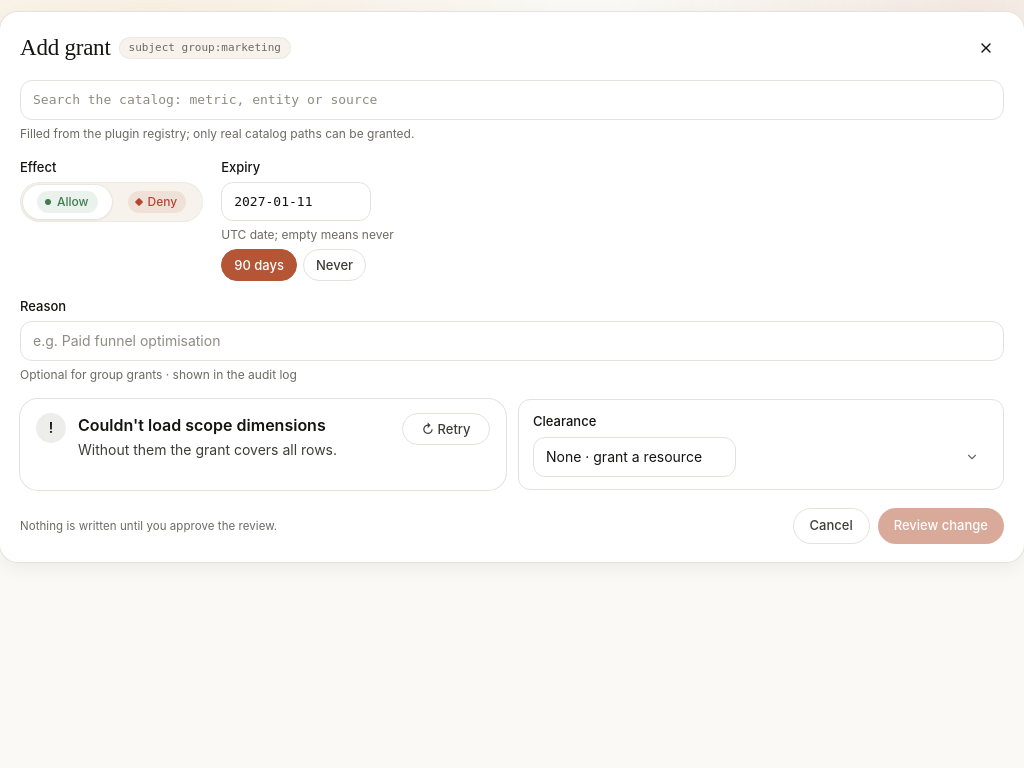
Test: GrantEditor › scope dimensions that fail to load: Retry, and a resource allow cannot be staged
This screenshot has width=1024, height=768.
Click the dropdown named "Target". click: [512, 100]
box: [20,80,1004,120]
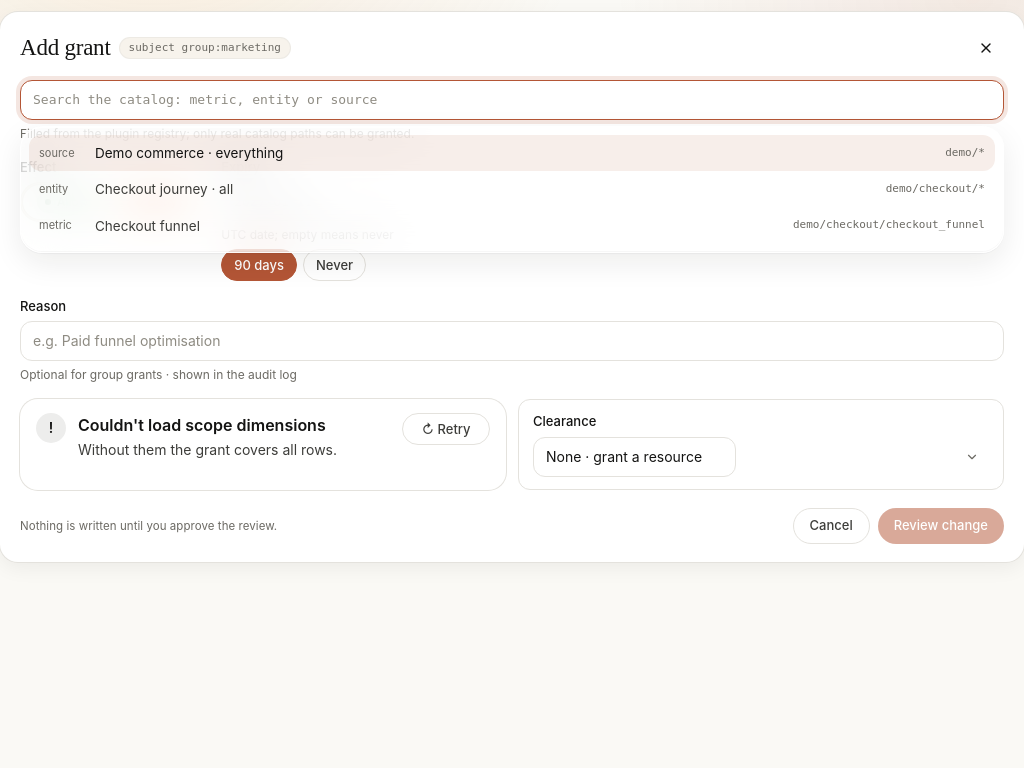
Type keys "checkout"
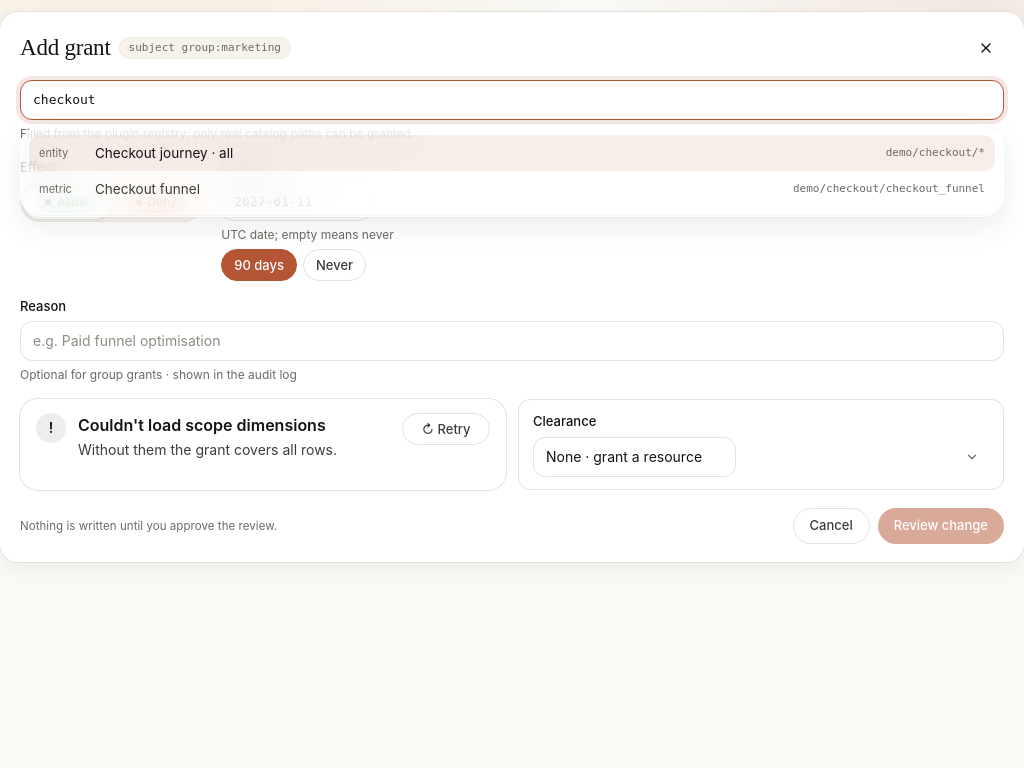
Click the option "entity Checkout journey · all demo/checkout/*". click: [164, 152]
box: [29,134,995,171]
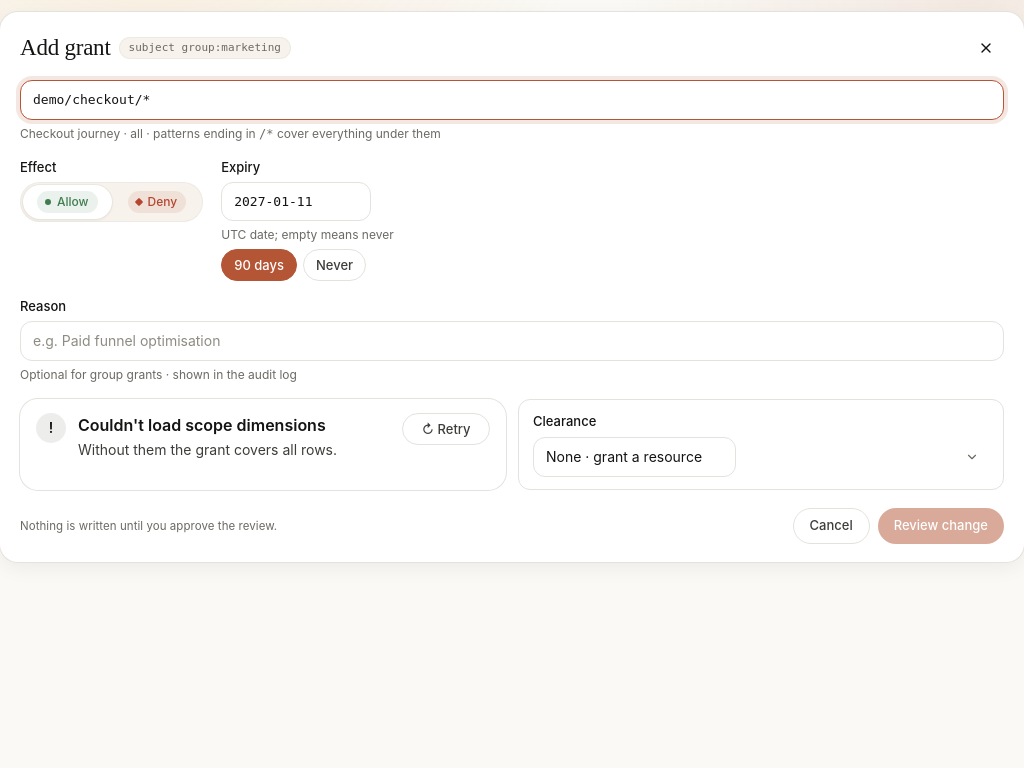
Expected: the text "Couldn't load scope dimensions" is shown, [78,415,326,435]
Expected: the button "Review change" is disabled, [878,508,1004,544]
Click the radio button labelled "Deny". click: [157, 202]
box: [114,185,200,219]
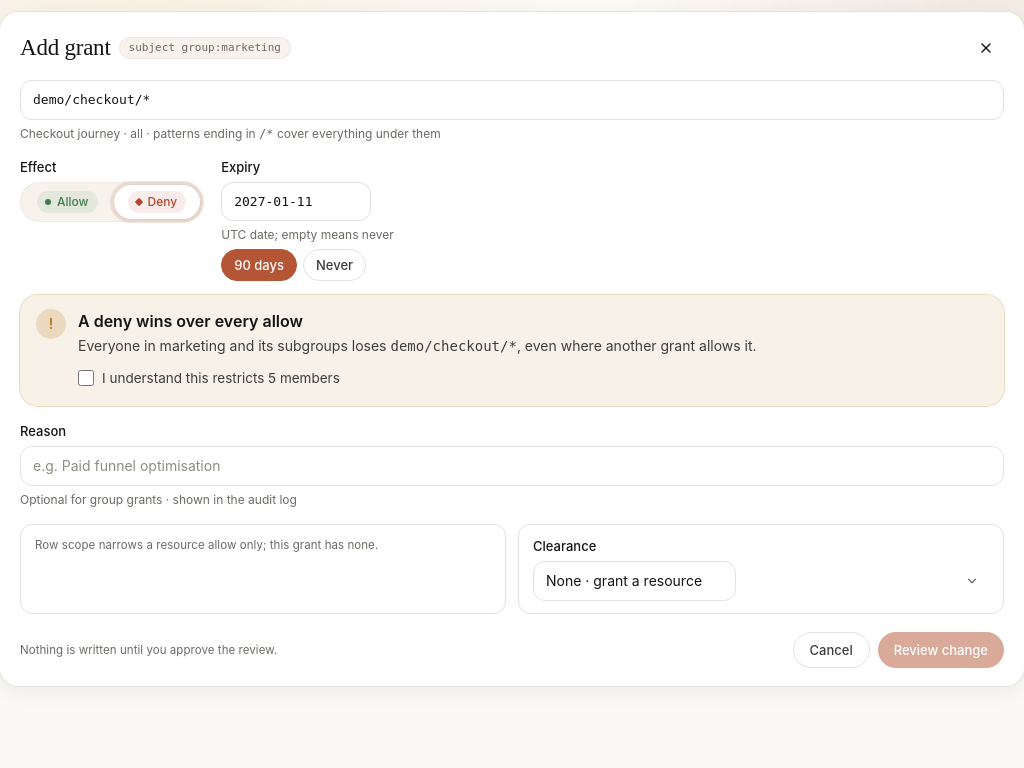
Click the checkbox labelled "I understand this restricts 5 members". click: [86, 378]
box: [78,370,94,386]
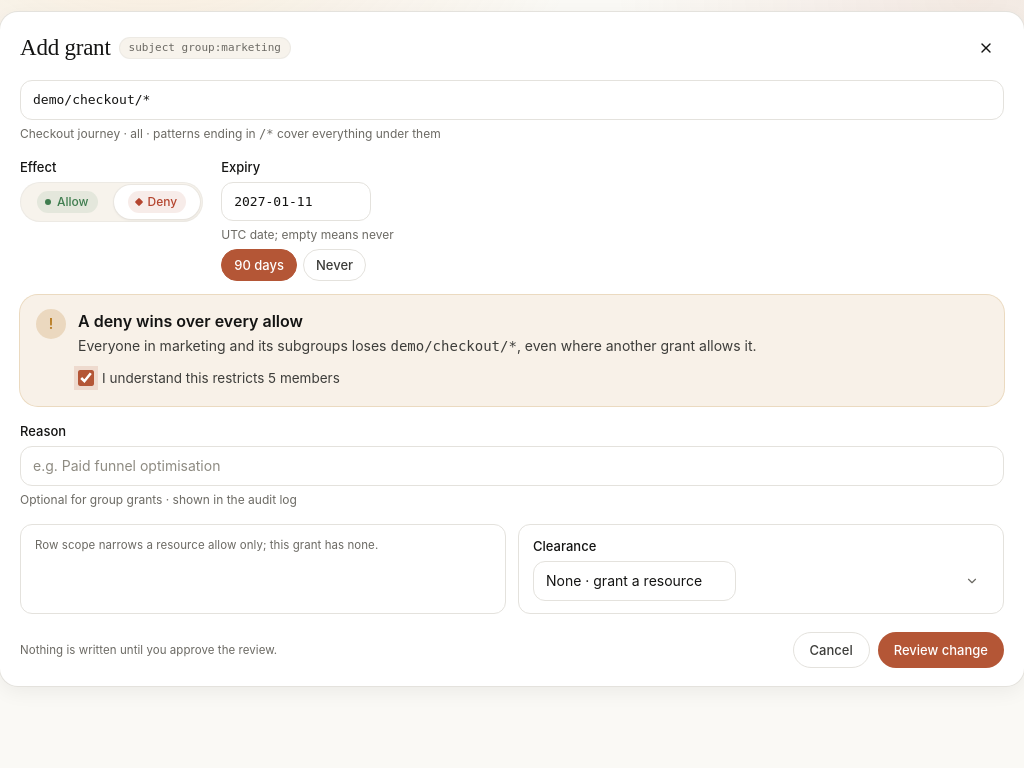
Expected: the button "Review change" is enabled, [878,632,1004,668]
